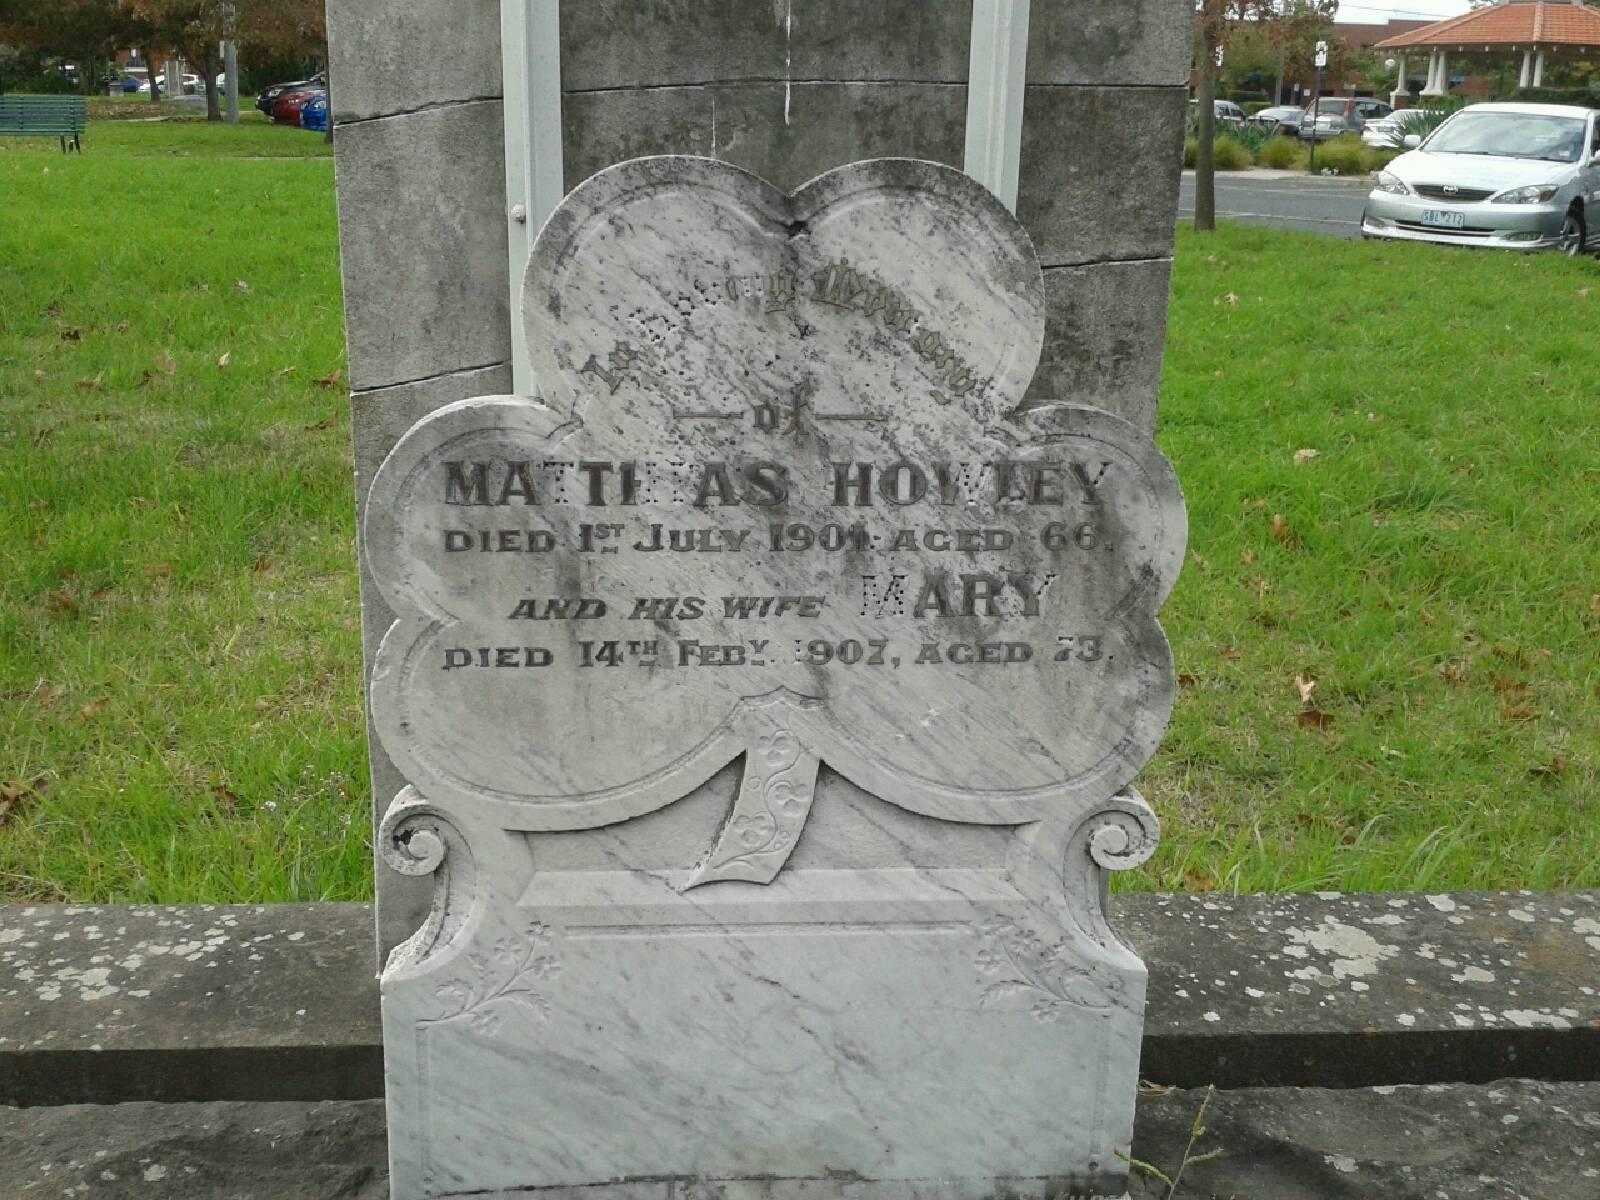upright: (324, 58, 1206, 1167)
